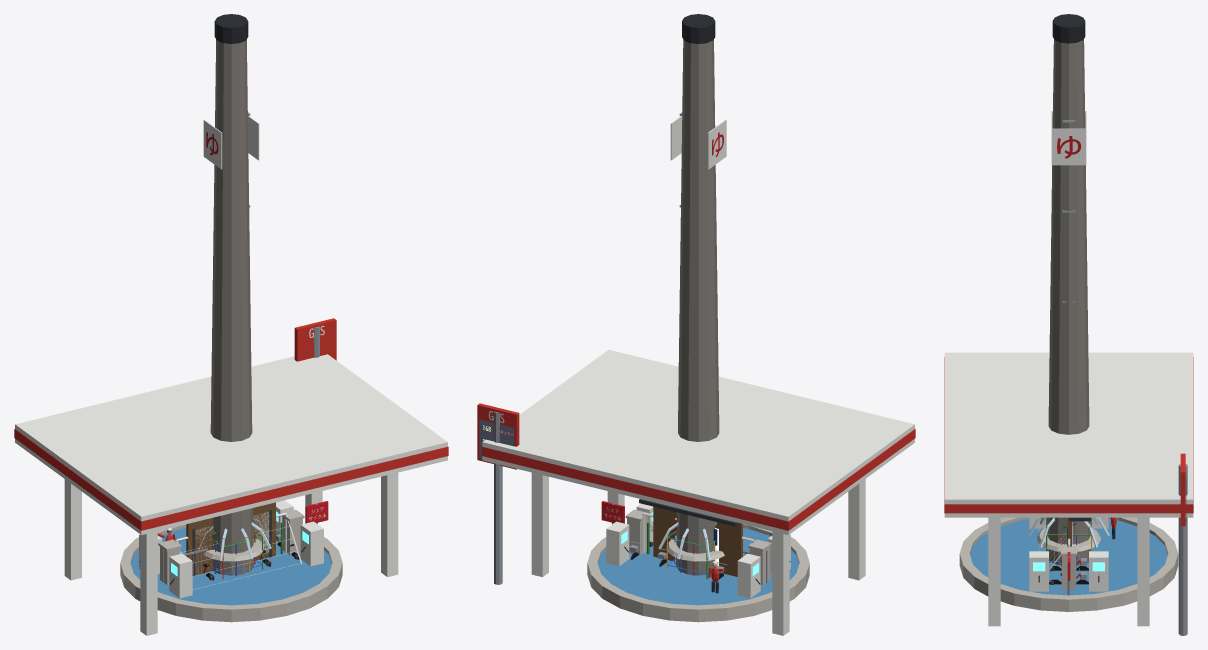
The model's file is city8.glb.
The picture shows the model from 3 angles, left to right: view 1: azimuth 30°, elevation 25°; view 2: azimuth 150°, elevation 25°; view 3: azimuth 270°, elevation 25°; orthographic projection.
Visible parts, largest first — view 1: C8_GasStation, C8_Chimney, C8_Fountain, C8_SentoFront, C8_SchoolGate, C8_SoccerGoal, C8_ElectionBoard, C8_CyclePort; view 2: C8_GasStation, C8_Chimney, C8_Fountain, C8_SentoFront, C8_SchoolGate, C8_CyclePort; view 3: C8_GasStation, C8_Chimney, C8_Fountain, C8_SchoolGate, C8_CyclePort, C8_FountainWater.
Boxes of the visible parts, left/top/right/bottom form: C8_GasStation: left=14, top=318, right=448, bottom=635; C8_Chimney: left=203, top=14, right=259, bottom=575; C8_Fountain: left=120, top=524, right=342, bottom=622; C8_SentoFront: left=186, top=502, right=275, bottom=574; C8_SchoolGate: left=158, top=509, right=304, bottom=585; C8_SoccerGoal: left=175, top=512, right=302, bottom=589; C8_ElectionBoard: left=192, top=510, right=271, bottom=575; C8_CyclePort: left=203, top=501, right=328, bottom=580; C8_GasStation: left=477, top=349, right=915, bottom=635; C8_Chimney: left=670, top=14, right=726, bottom=575; C8_Fountain: left=587, top=524, right=809, bottom=622; C8_SentoFront: left=639, top=499, right=742, bottom=576; C8_SchoolGate: left=625, top=509, right=771, bottom=585; C8_CyclePort: left=601, top=501, right=726, bottom=579; C8_GasStation: left=944, top=352, right=1193, bottom=635; C8_Chimney: left=1047, top=14, right=1090, bottom=565; C8_Fountain: left=959, top=517, right=1178, bottom=611; C8_SchoolGate: left=1060, top=546, right=1077, bottom=589; C8_CyclePort: left=1049, top=552, right=1088, bottom=595; C8_FountainWater: left=1028, top=517, right=1109, bottom=547.
Size of the model in its own units: 14.42 by 24.23 by 10.04.
